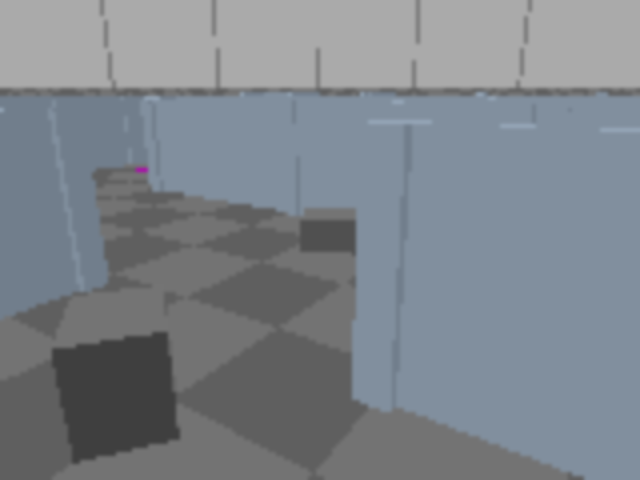obstacle: (50, 285, 179, 463), (300, 207, 358, 254)
